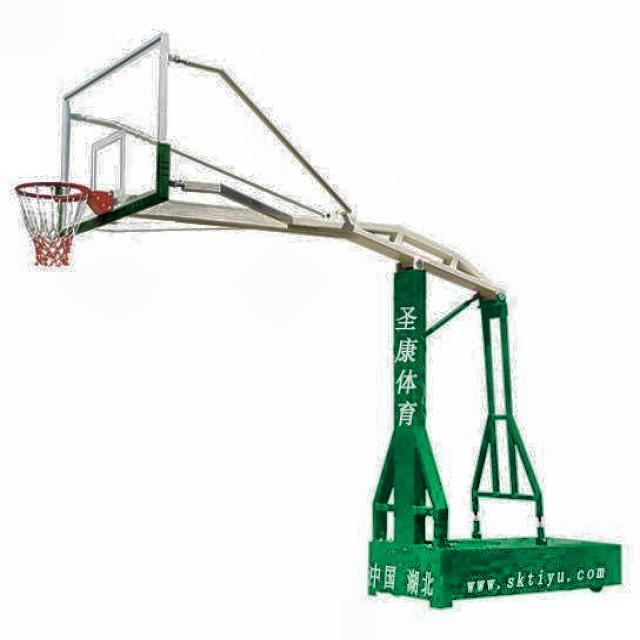rim: (14, 180, 86, 267)
